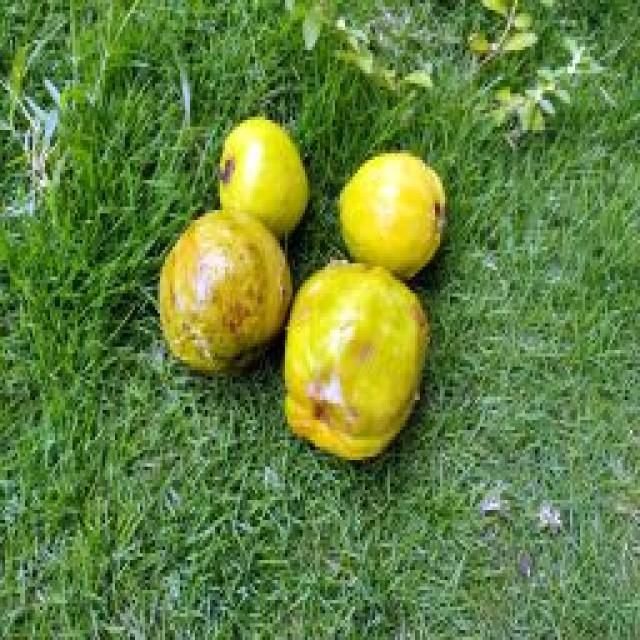Organik: (268, 247, 428, 454), (152, 215, 292, 368), (324, 134, 452, 269), (206, 112, 324, 226)
